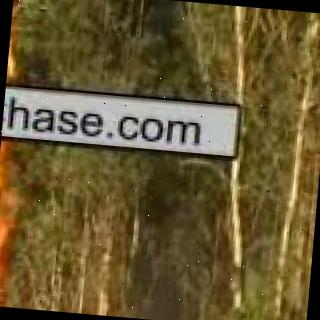fire: (0, 136, 42, 309), (5, 0, 25, 93)
